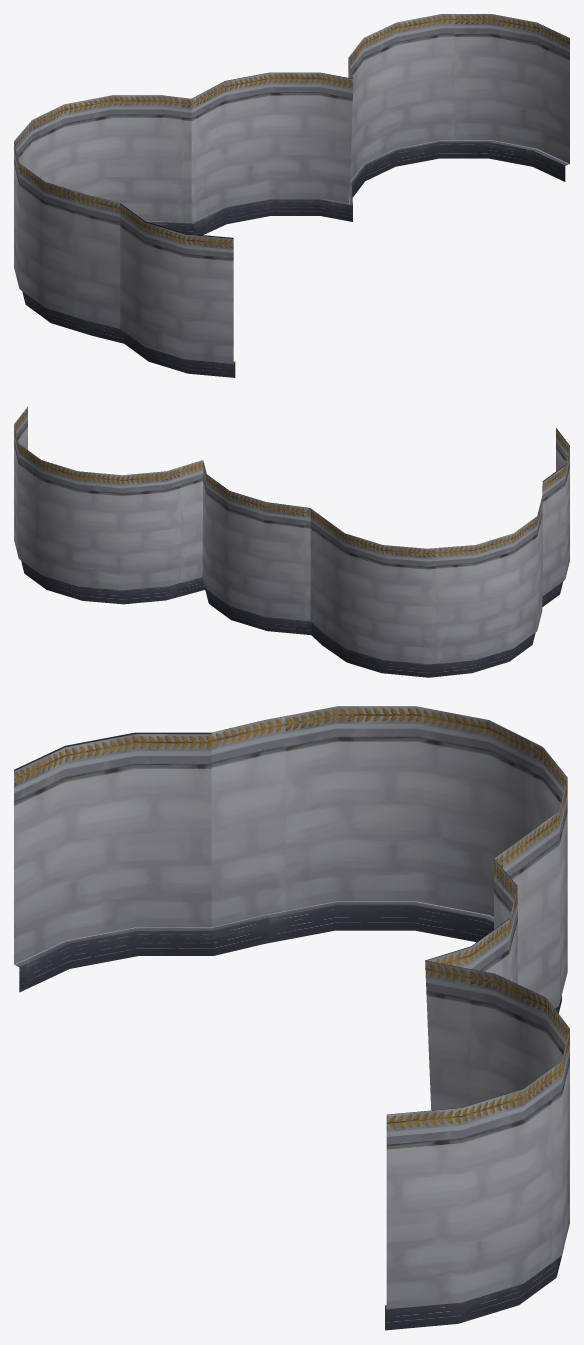
File: Cancer_std_walls.fbx
The picture shows the model from 3 angles, top to bottom: view 1: azimuth 30°, elevation 25°; view 2: azimuth 150°, elevation 25°; view 3: azimuth 270°, elevation 25°; orthographic projection. The views are drawn at different scales.
Parts seen in each view (by area): view 1: polySurface3; view 2: polySurface3; view 3: polySurface3.
Part boxes in pixels (<box>): polySurface3: <box>14,14,569,377</box>; polySurface3: <box>14,406,569,677</box>; polySurface3: <box>14,706,569,1330</box>.
Size of the model in its own units: 31.2 by 7.84 by 17.97.
